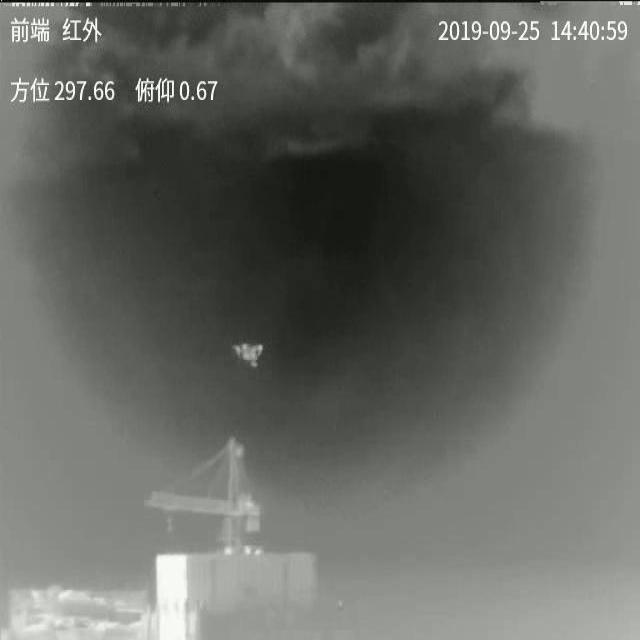drone: (233, 344, 263, 367)
